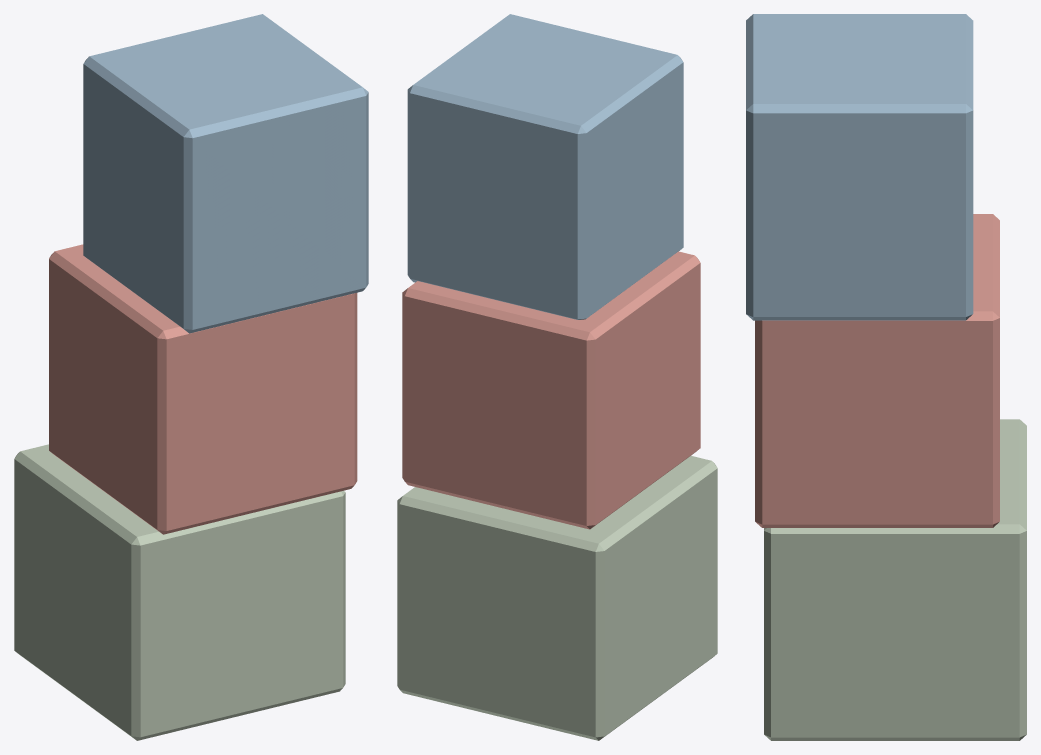
File: StackablePouffes.glb
The picture shows the model from 3 angles, left to right: view 1: azimuth 30°, elevation 25°; view 2: azimuth 150°, elevation 25°; view 3: azimuth 270°, elevation 25°; orthographic projection. The views are drawn at different scales.
Parts seen in each view (by area): view 1: StackablePouffes_Body; view 2: StackablePouffes_Body; view 3: StackablePouffes_Body.
Boxes of the visible parts, x1=… form: StackablePouffes_Body: x1=14, y1=14, x2=368, y2=740; StackablePouffes_Body: x1=397, y1=14, x2=717, y2=740; StackablePouffes_Body: x1=746, y1=14, x2=1026, y2=740.
Size of the model in its own units: 0.47 by 1.19 by 0.47.
